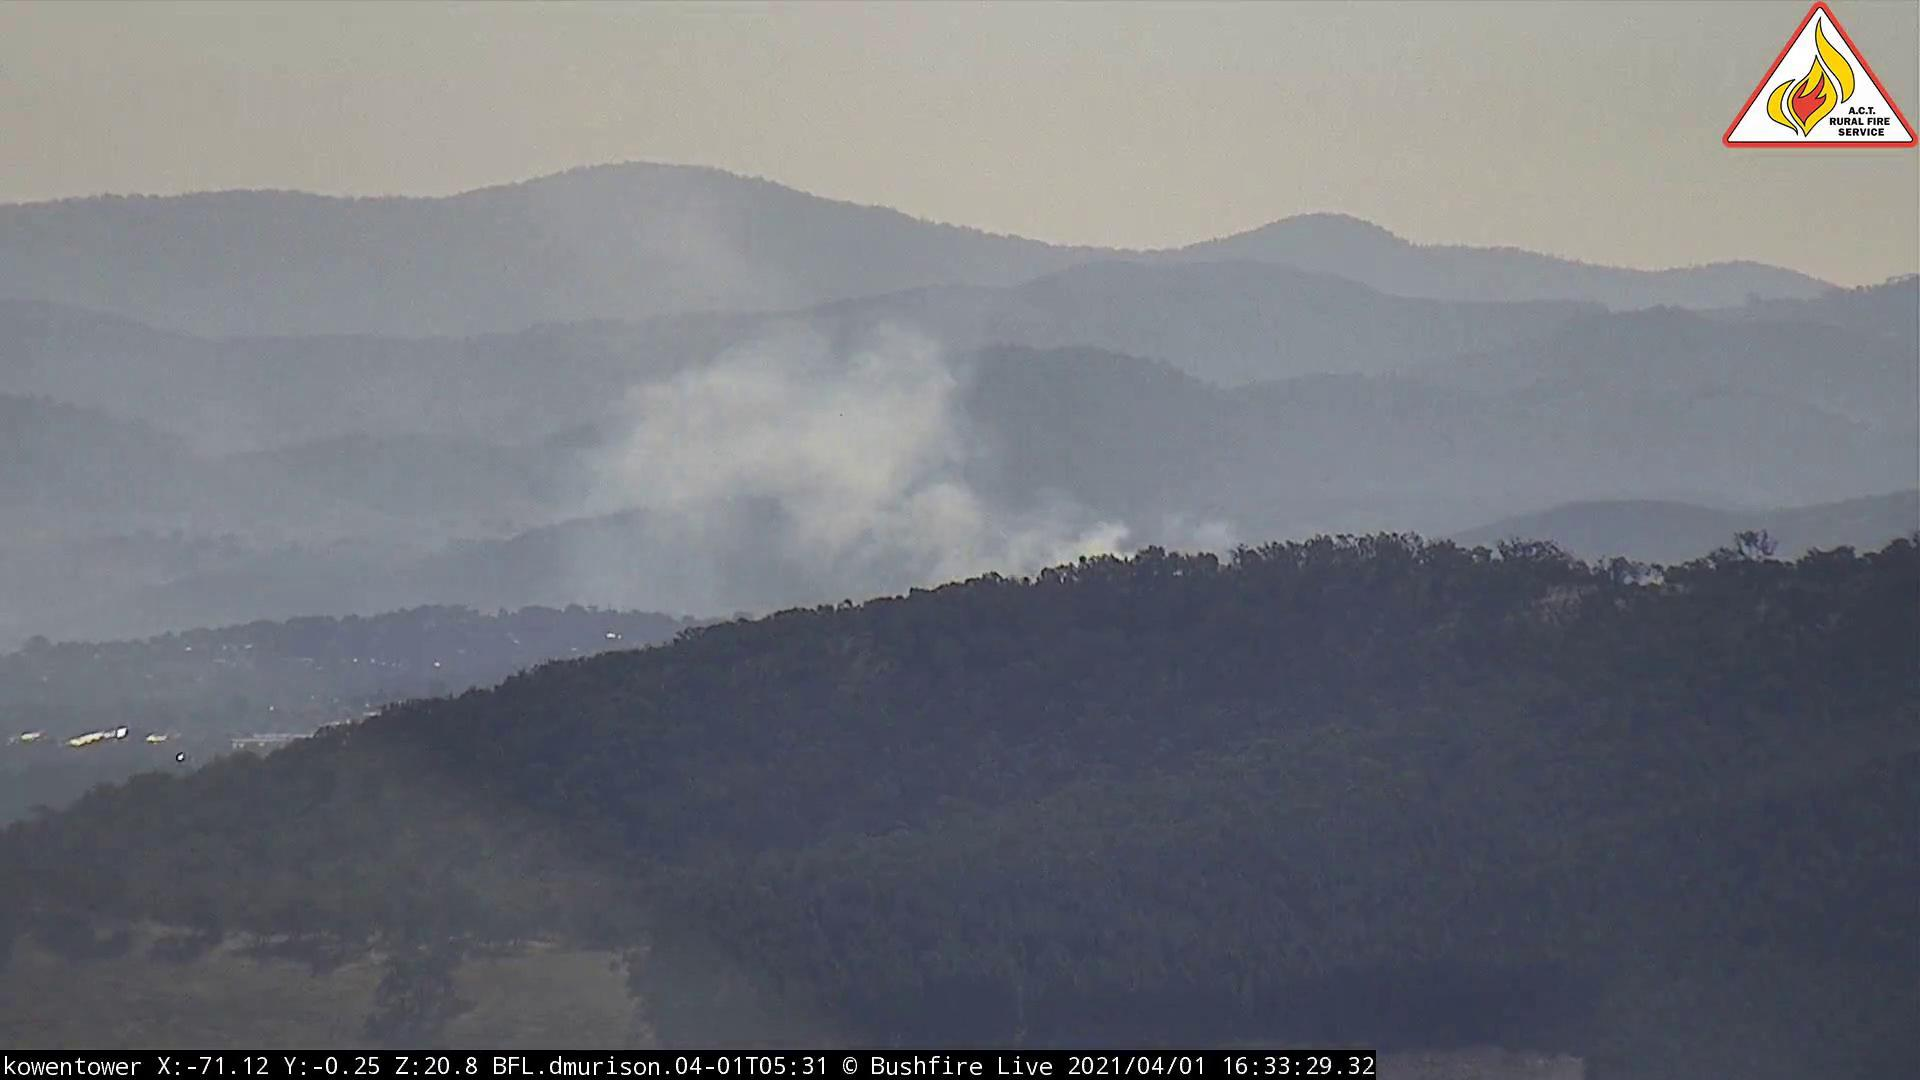Smoke: (485, 298, 1247, 644)
